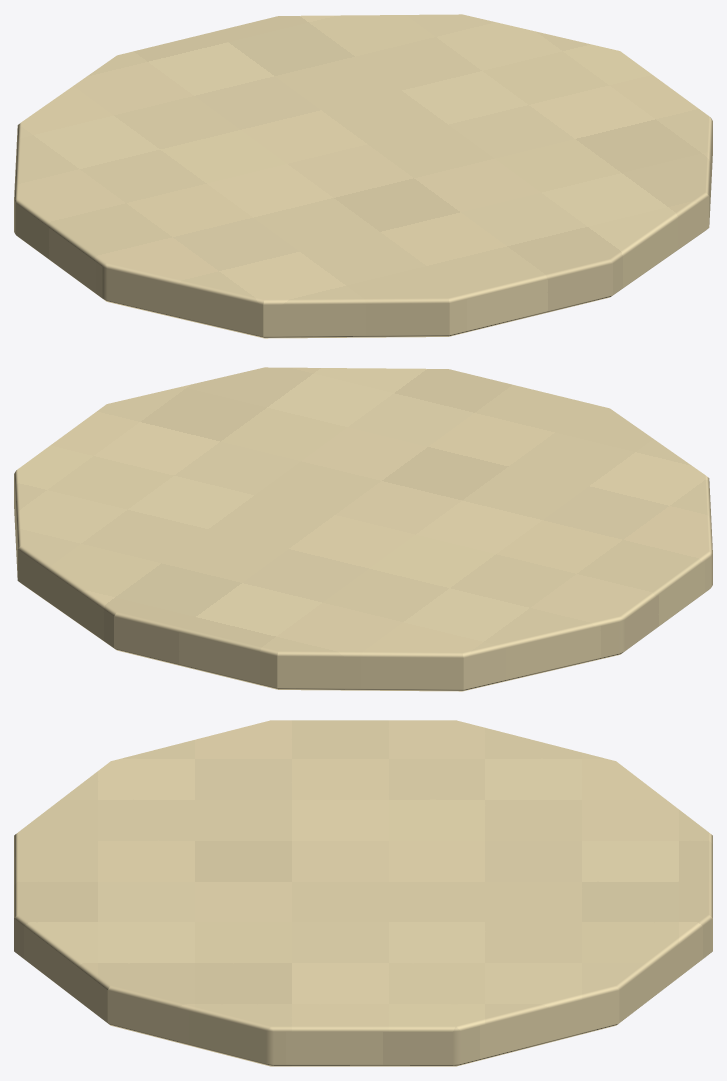
Rendered from Glaze-stripe.glb.
3 renders of one model, top to bottom at view 1: azimuth 30°, elevation 25°; view 2: azimuth 150°, elevation 25°; view 3: azimuth 270°, elevation 25°, orthographic. The views are drawn at different scales.
Parts seen in each view (by area): view 1: Glaze-stripe; view 2: Glaze-stripe; view 3: Glaze-stripe.
Boxes of the visible parts, x1=… form: Glaze-stripe: x1=14, y1=14, x2=712, y2=338; Glaze-stripe: x1=14, y1=367, x2=712, y2=691; Glaze-stripe: x1=14, y1=720, x2=712, y2=1066.
Bounding box in the file's own units: 0.2956 × 0.018 × 0.2821.
1 material, 1 textured.
